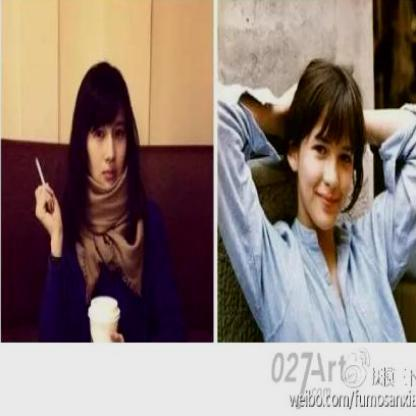cigarette: (34, 156, 45, 187)
person: (216, 60, 415, 344), (52, 60, 158, 336)
